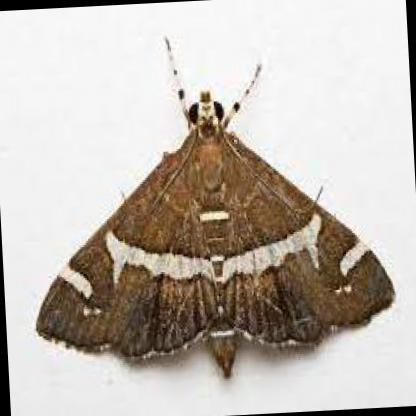Leaf Webber: (31, 31, 396, 385)
